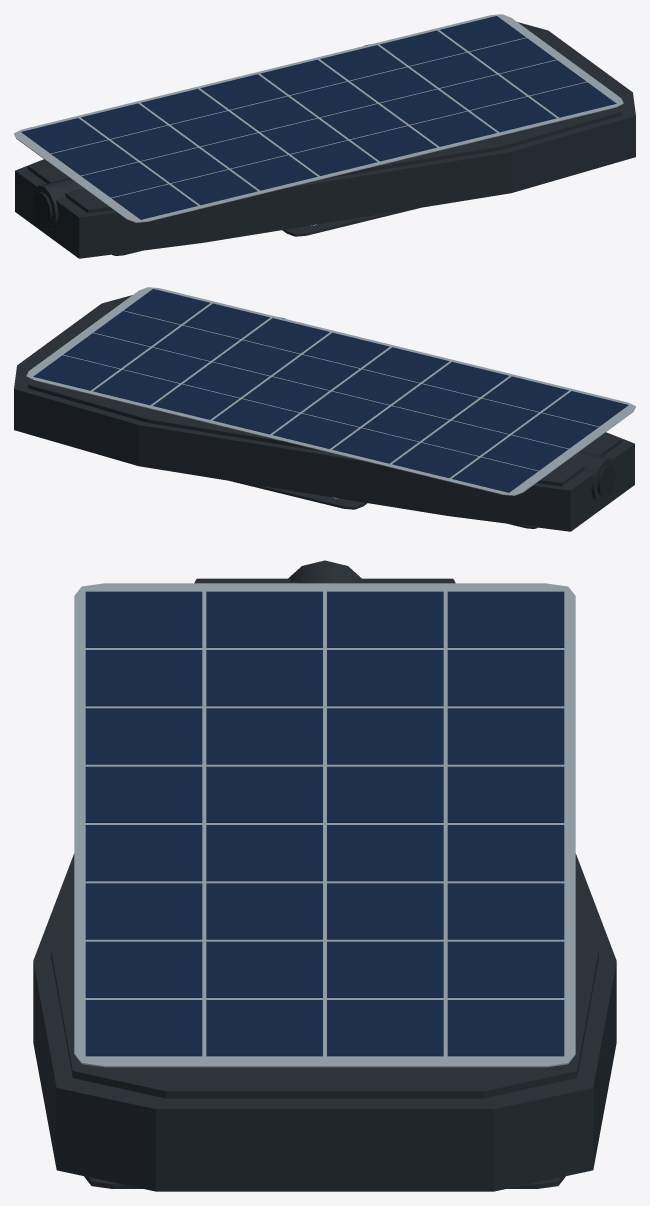
Rendered from source.glb.
3 views of the same model, one above another, from view 1: azimuth 30°, elevation 25°; view 2: azimuth 150°, elevation 25°; view 3: azimuth 270°, elevation 25° (orthographic). The views are drawn at different scales.
Visible parts, largest first — view 1: 光伏片示意, 粉末涂层铝壳, 机加工金属, 密封及绝缘件; view 2: 光伏片示意, 粉末涂层铝壳, 机加工金属, 密封及绝缘件; view 3: 光伏片示意, 粉末涂层铝壳, 机加工金属.
Part boxes in pixels (x1,y1,x2,y2): 光伏片示意: (21, 16, 616, 219); 粉末涂层铝壳: (15, 22, 635, 258); 机加工金属: (14, 14, 623, 222); 密封及绝缘件: (34, 192, 136, 255); 光伏片示意: (33, 289, 628, 492); 粉末涂层铝壳: (14, 295, 634, 531); 机加工金属: (26, 287, 635, 495); 密封及绝缘件: (513, 465, 615, 528); 光伏片示意: (85, 591, 564, 1056); 粉末涂层铝壳: (33, 560, 616, 1191); 机加工金属: (74, 583, 575, 1067).
Bounding box in the file's own units: 0.4995 × 0.0519 × 0.23.
